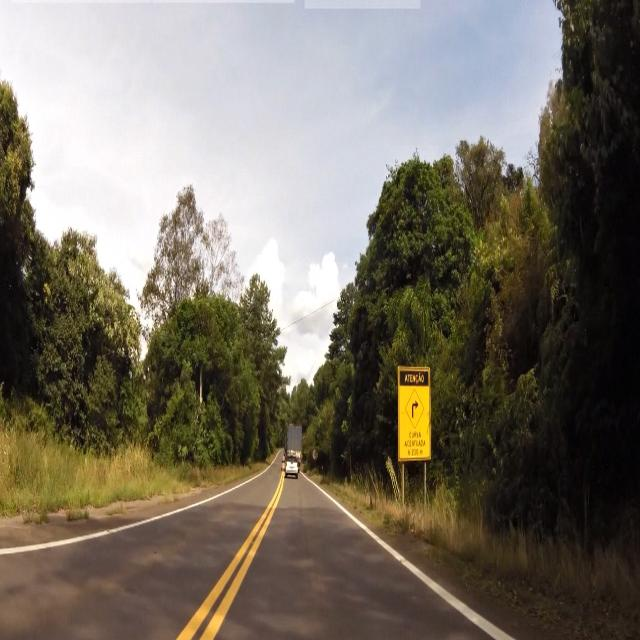A-1b: (404, 389, 429, 432)
